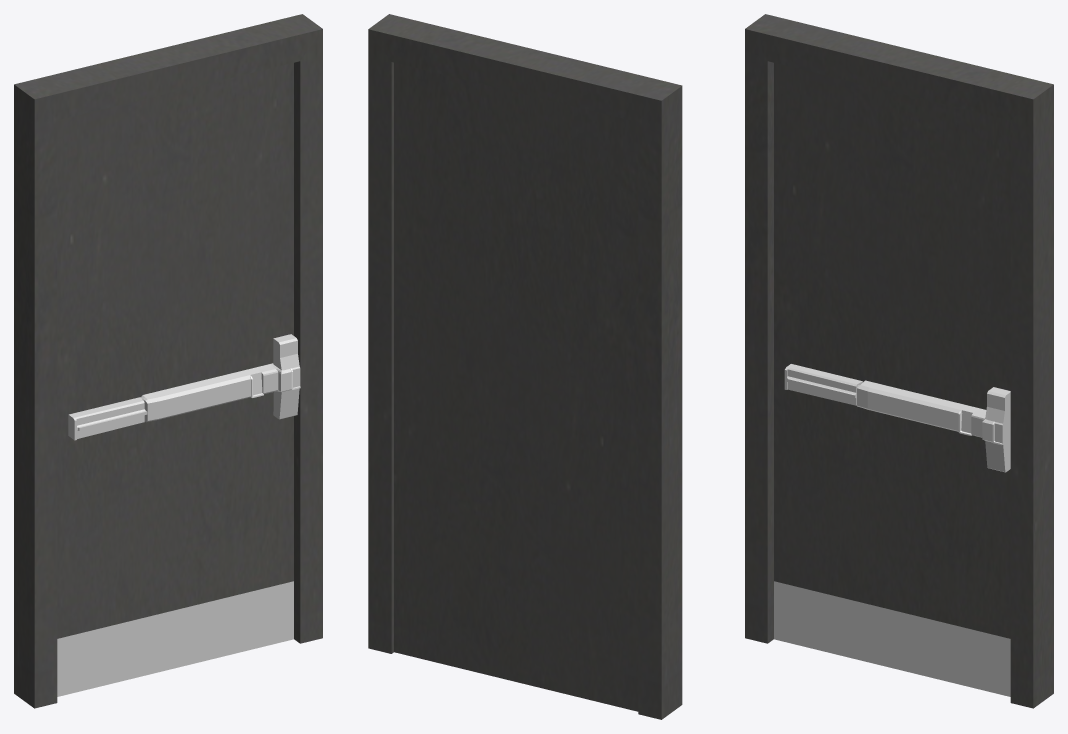
File: fire_exit_door.glb
3 renders of one model, left to right at view 1: azimuth 30°, elevation 25°; view 2: azimuth 150°, elevation 25°; view 3: azimuth 330°, elevation 25°, orthographic.
Parts seen in each view (by area): view 1: Door, Door Frame, Handle; view 2: Door, Door Frame; view 3: Door, Door Frame, Handle.
Boxes of the visible parts, x1,y1,x2,y2 form: Door: [57, 63, 293, 696]; Door Frame: [14, 14, 322, 708]; Handle: [68, 334, 300, 440]; Door: [394, 62, 638, 711]; Door Frame: [368, 14, 682, 719]; Door: [774, 63, 1010, 696]; Door Frame: [745, 14, 1053, 708]; Handle: [784, 364, 1010, 472].
Size of the model in its own units: 1.43 by 2.85 by 0.3006.
4 materials, 1 textured.
